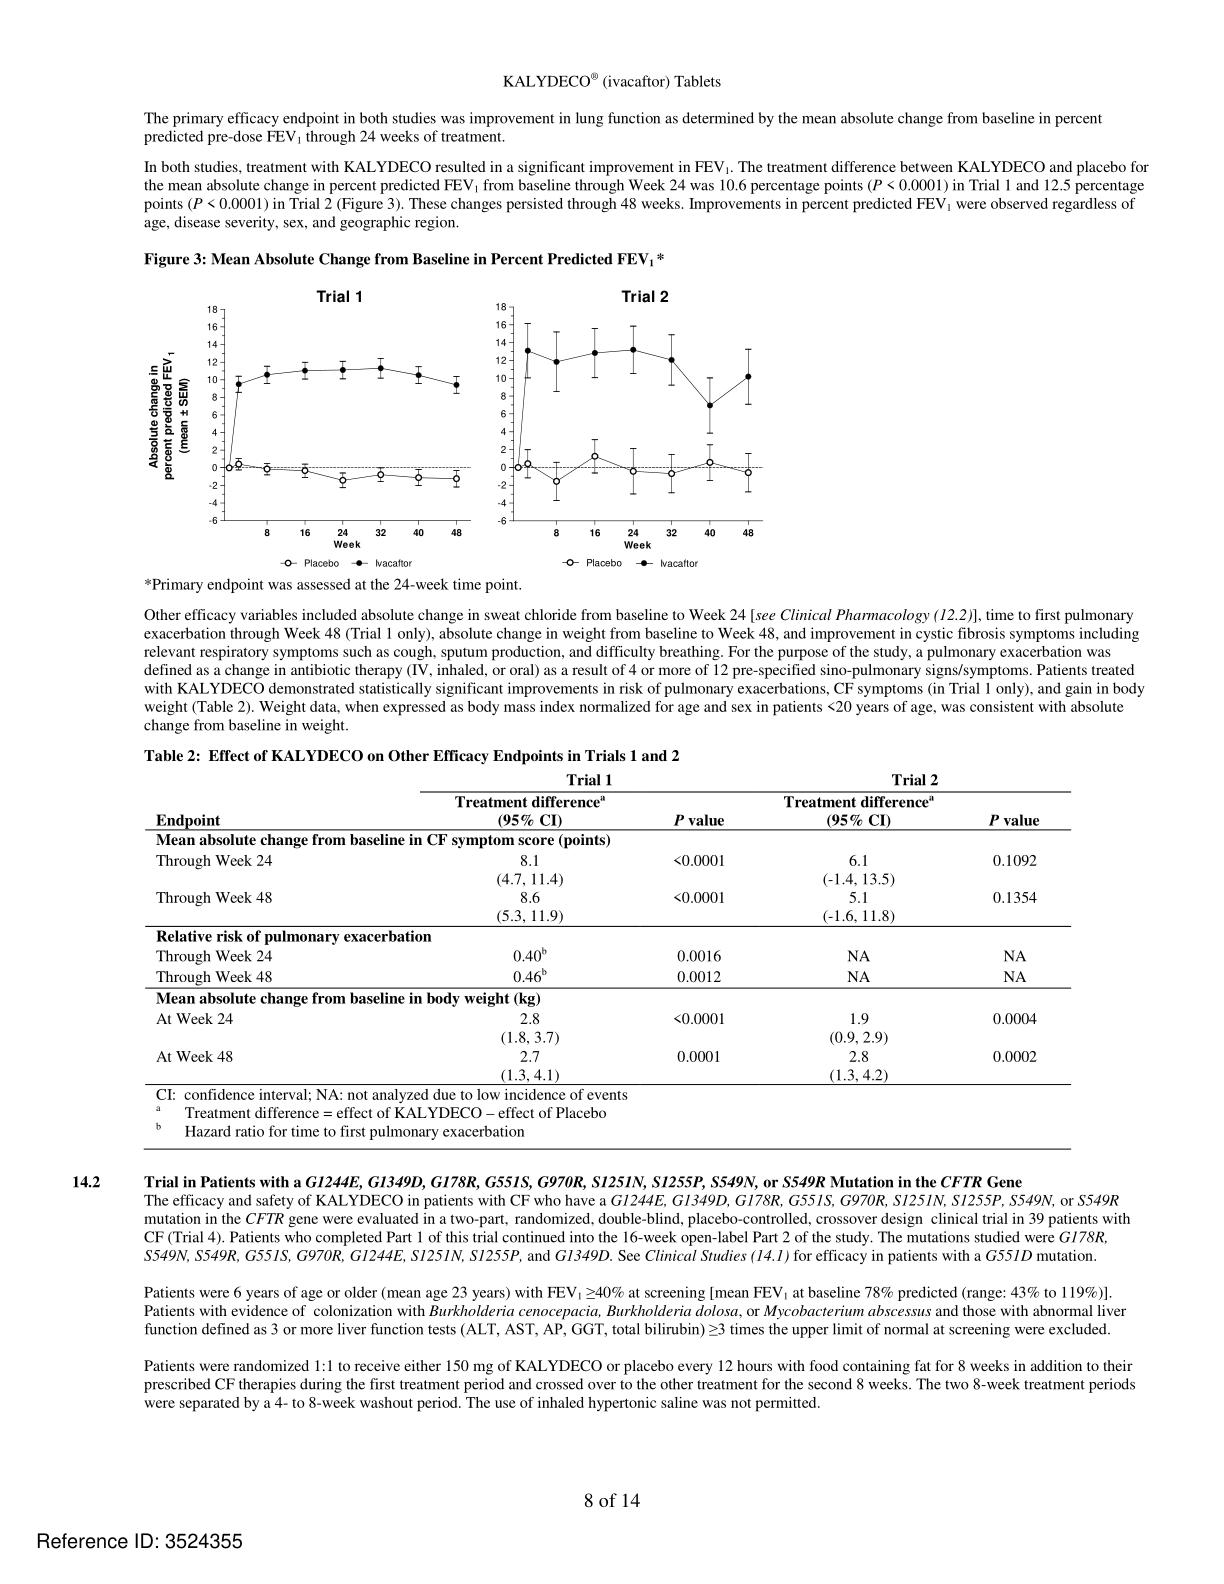partial_lined_merged_cells: (141, 768, 1074, 1086)
